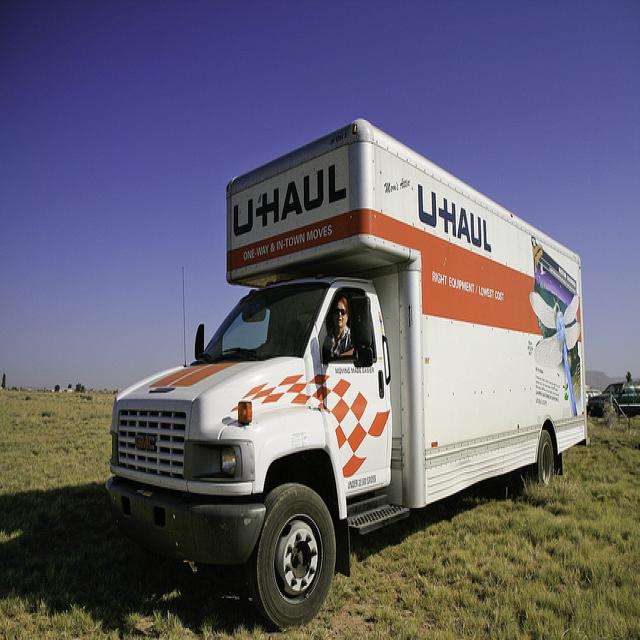Vehicle: (110, 111, 590, 634), (586, 382, 640, 419)
